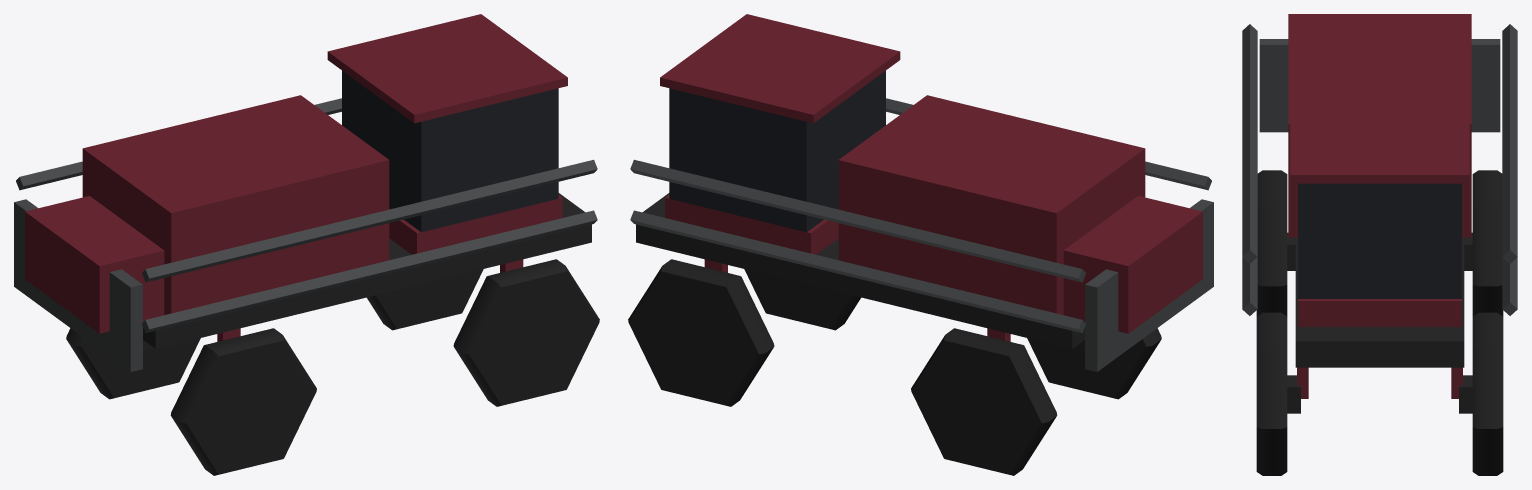
File: SM_Prop_farm_sprayer_1_LOD2.glb
3 renders of one model, left to right at view 1: azimuth 30°, elevation 25°; view 2: azimuth 150°, elevation 25°; view 3: azimuth 270°, elevation 25°, orthographic. The views are drawn at different scales.
Visible parts, largest first — view 1: SM_Prop_farm_sprayer_1_LOD2; view 2: SM_Prop_farm_sprayer_1_LOD2; view 3: SM_Prop_farm_sprayer_1_LOD2.
Boxes of the visible parts, box(x1,y1,x2,y2) form: SM_Prop_farm_sprayer_1_LOD2: box(14, 14, 599, 475); SM_Prop_farm_sprayer_1_LOD2: box(628, 14, 1213, 475); SM_Prop_farm_sprayer_1_LOD2: box(1242, 14, 1517, 475).
Size of the model in its own units: 6.05 by 3.54 by 2.86.
